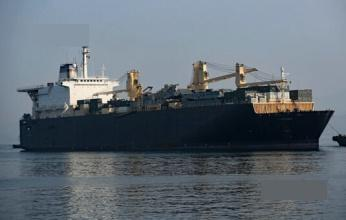Cargoship: (4, 35, 337, 147)
